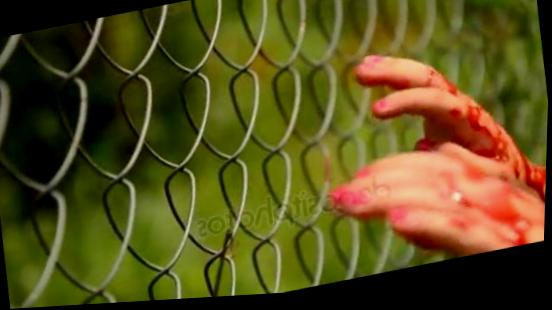Fire: (333, 75, 547, 262)
